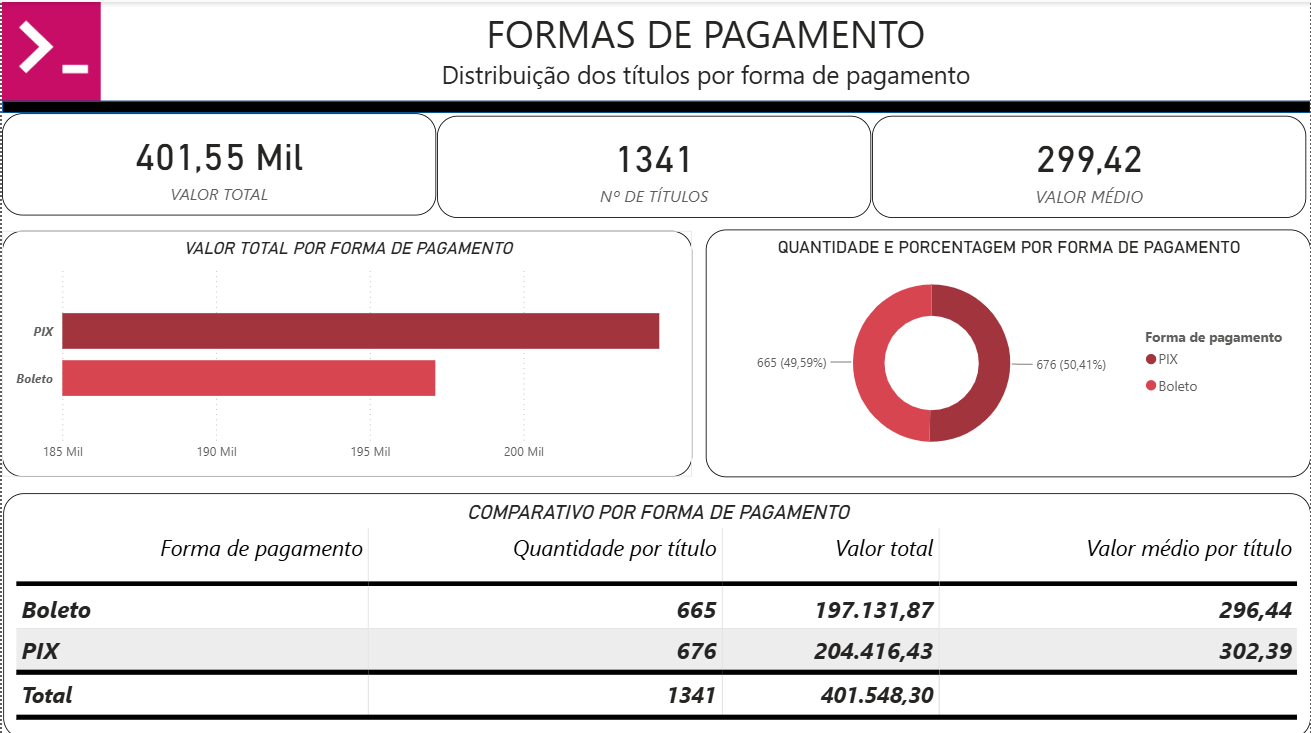

What the dashboard file says about the page in this screenshot:
{"tool":"powerbi","page":{"name":"PAINEL 3","canvas":[1280,720],"ordinal":2},"visuals":[{"type":"image","box":[0,0,97,97],"z":0},{"type":"textbox","box":[96.6,0,1183.7,96.6],"z":1000},{"type":"shape","box":[0,96.6,1280.3,12.2],"z":2000},{"type":"card","title":"VALOR TOTAL","fields":{"Values":["Sum(dw_pagamento_contas vw_formas_pagamento.valor_total)"]},"box":[0,108.8,425,100],"z":3000},{"type":"card","fields":{"Values":["Sum(dw_pagamento_contas vw_formas_pagamento.quantidade_titulos)"]},"box":[425.5,111.3,425,100],"z":4000},{"type":"card","fields":{"Values":["Avg(dw_pagamento_contas vw_formas_pagamento.valor_medio)"]},"box":[851.1,111.3,425,100],"z":5000},{"type":"barChart","title":"VALOR TOTAL POR FORMA DE PAGAMENTO","fields":{"Category":["dw_pagamento_contas vw_formas_pagamento.forma_pagamento"],"Y":["Sum(dw_pagamento_contas vw_formas_pagamento.valor_total)"]},"box":[0,223.8,675,240.9],"z":6000},{"type":"tableEx","title":"COMPARATIVO POR FORMA DE PAGAMENTO","fields":{"Values":["dw_pagamento_contas vw_formas_pagamento.forma_pagamento","Sum(dw_pagamento_contas vw_formas_pagamento.quantidade_titulos)","Sum(dw_pagamento_contas vw_formas_pagamento.valor_total)","dw_pagamento_contas vw_formas_pagamento.valor_medio"]},"box":[1.2,480.6,1279.1,239.7],"z":7000},{"type":"donutChart","title":"QUANTIDADE E PORCENTAGEM POR FORMA DE PAGAMENTO","fields":{"Category":["dw_pagamento_contas vw_formas_pagamento.forma_pagamento"],"Y":["Sum(dw_pagamento_contas vw_formas_pagamento.quantidade_titulos)"]},"box":[688.5,222.6,591.9,242.1],"z":8000}]}

Visuals, with their boxes in screenshot pixels (x1, y1, x2, y2), scaled from the page's 1280x720 canvas onto the 1311x733 screenshot:
image: [x1=0, y1=0, x2=99, y2=99]
textbox: [x1=99, y1=0, x2=1310, y2=98]
shape: [x1=0, y1=98, x2=1310, y2=111]
"VALOR TOTAL" card: [x1=0, y1=111, x2=435, y2=213]
card - Sum(dw_pagamento_contas vw_formas_pagamento.quantidade_titulos): [x1=436, y1=113, x2=871, y2=215]
card - Avg(dw_pagamento_contas vw_formas_pagamento.valor_medio): [x1=872, y1=113, x2=1307, y2=215]
"VALOR TOTAL POR FORMA DE PAGAMENTO" barChart: [x1=0, y1=228, x2=691, y2=473]
"COMPARATIVO POR FORMA DE PAGAMENTO" tableEx: [x1=1, y1=489, x2=1310, y2=732]
"QUANTIDADE E PORCENTAGEM POR FORMA DE PAGAMENTO" donutChart: [x1=705, y1=227, x2=1310, y2=473]
